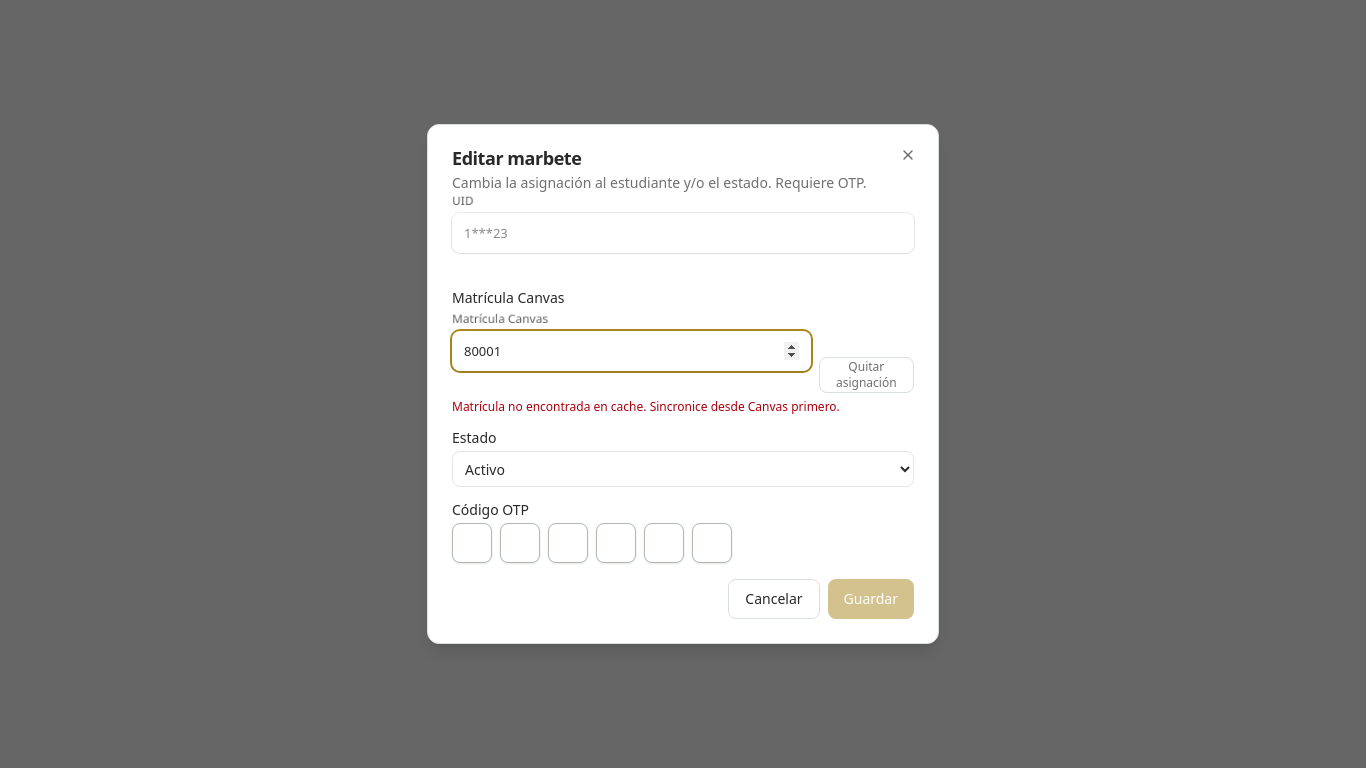
EditDialog › shows "no changes" error if status matches original and no canvasUserId change
In the field named "Digit": (472, 543) [452,523,492,563], type "1"
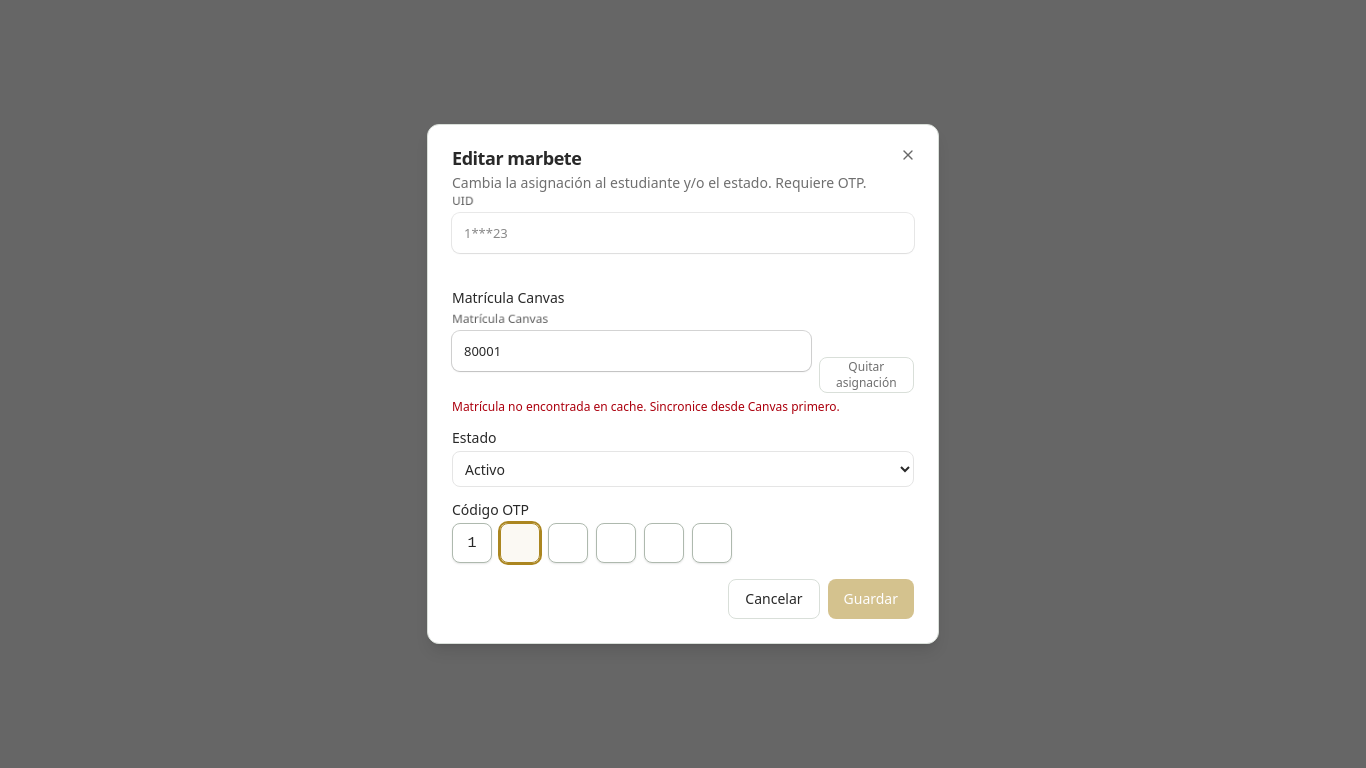
In the field named "Digit": (520, 543) [500,523,540,563], type "1"
In the field named "Digit": (568, 543) [548,523,588,563], type "1"
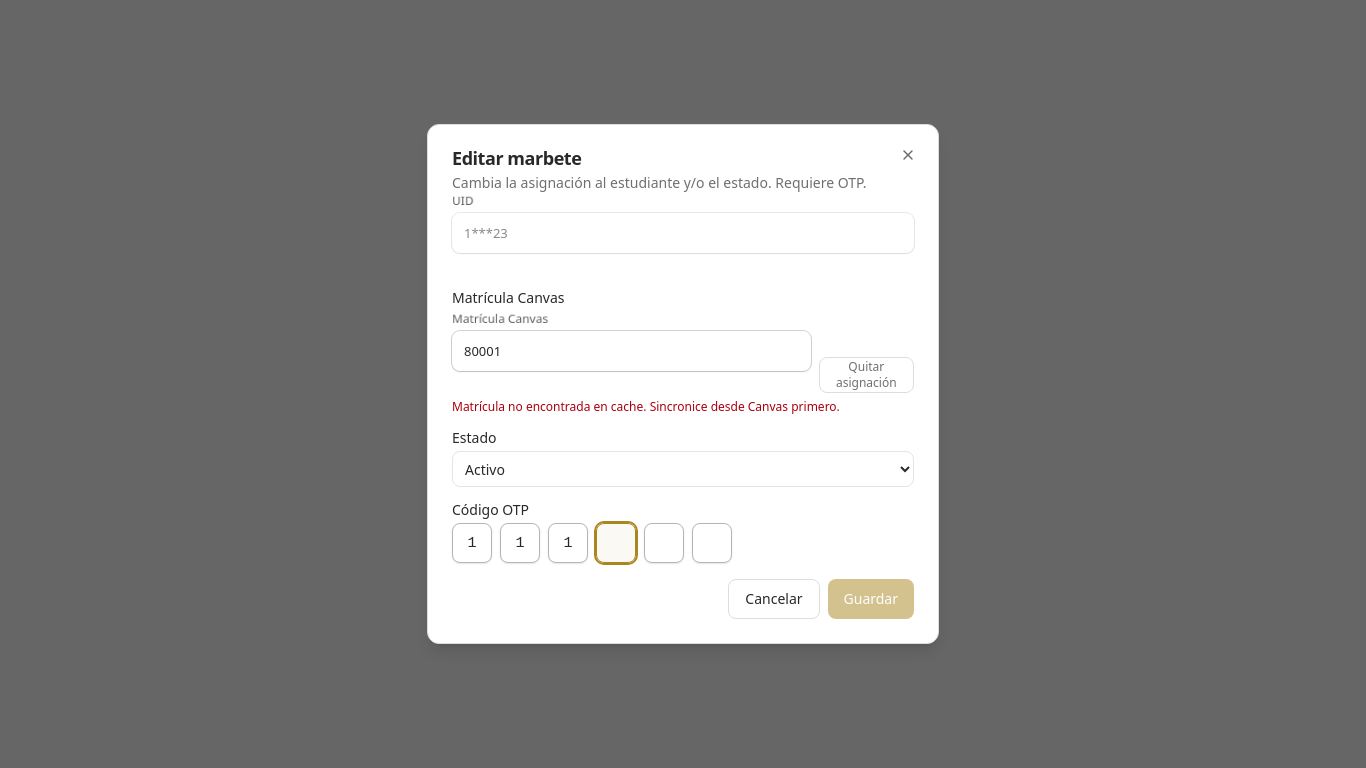
In the field named "Digit": (616, 543) [596,523,636,563], type "1"
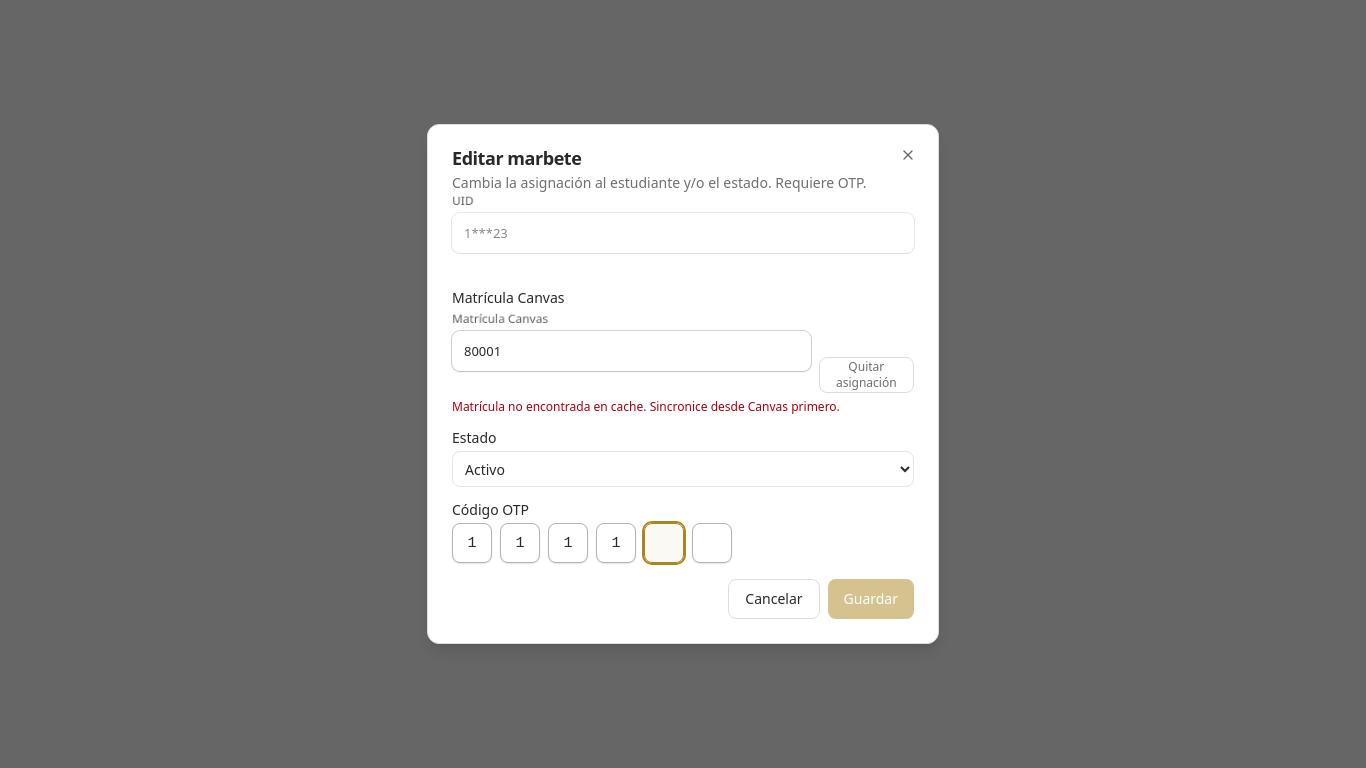
In the field named "Digit": (664, 543) [644,523,684,563], type "1"
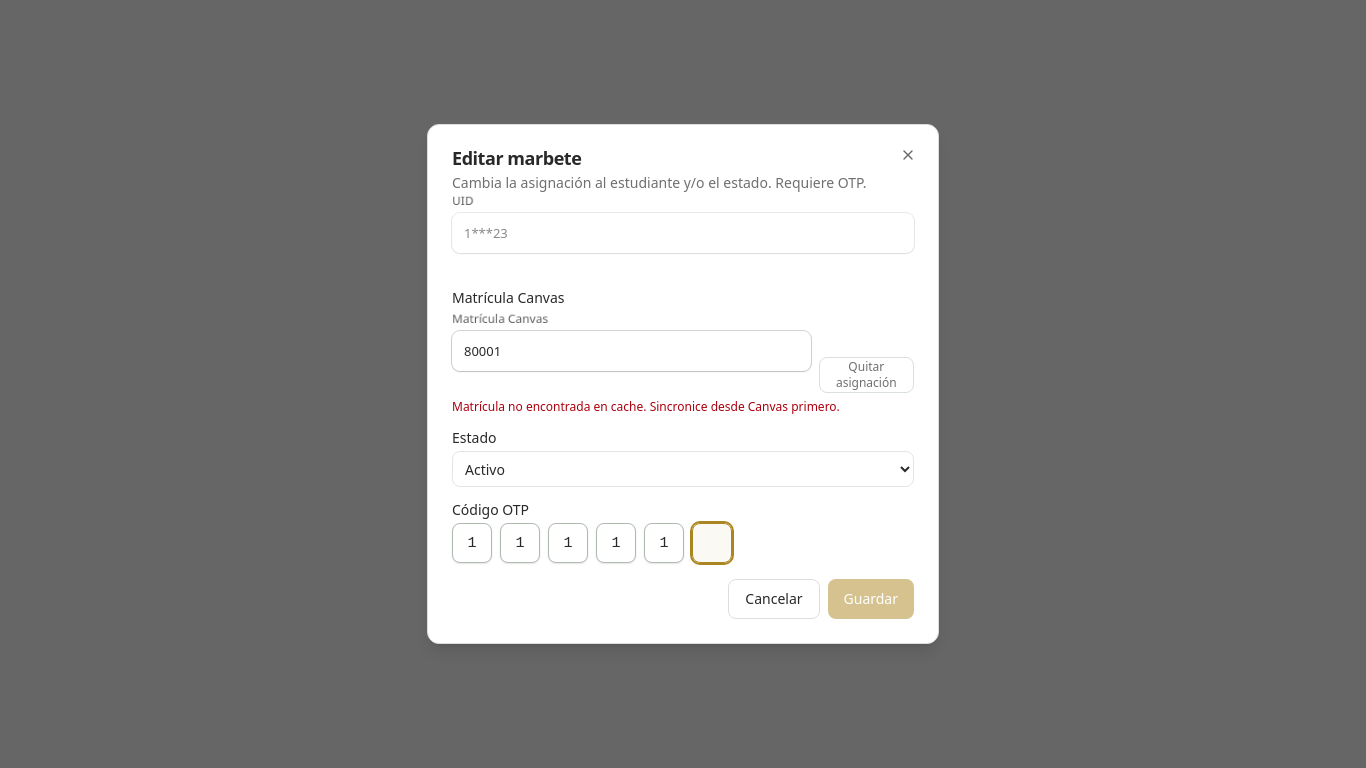
In the field named "Digit": (712, 543) [692,523,732,563], type "1"
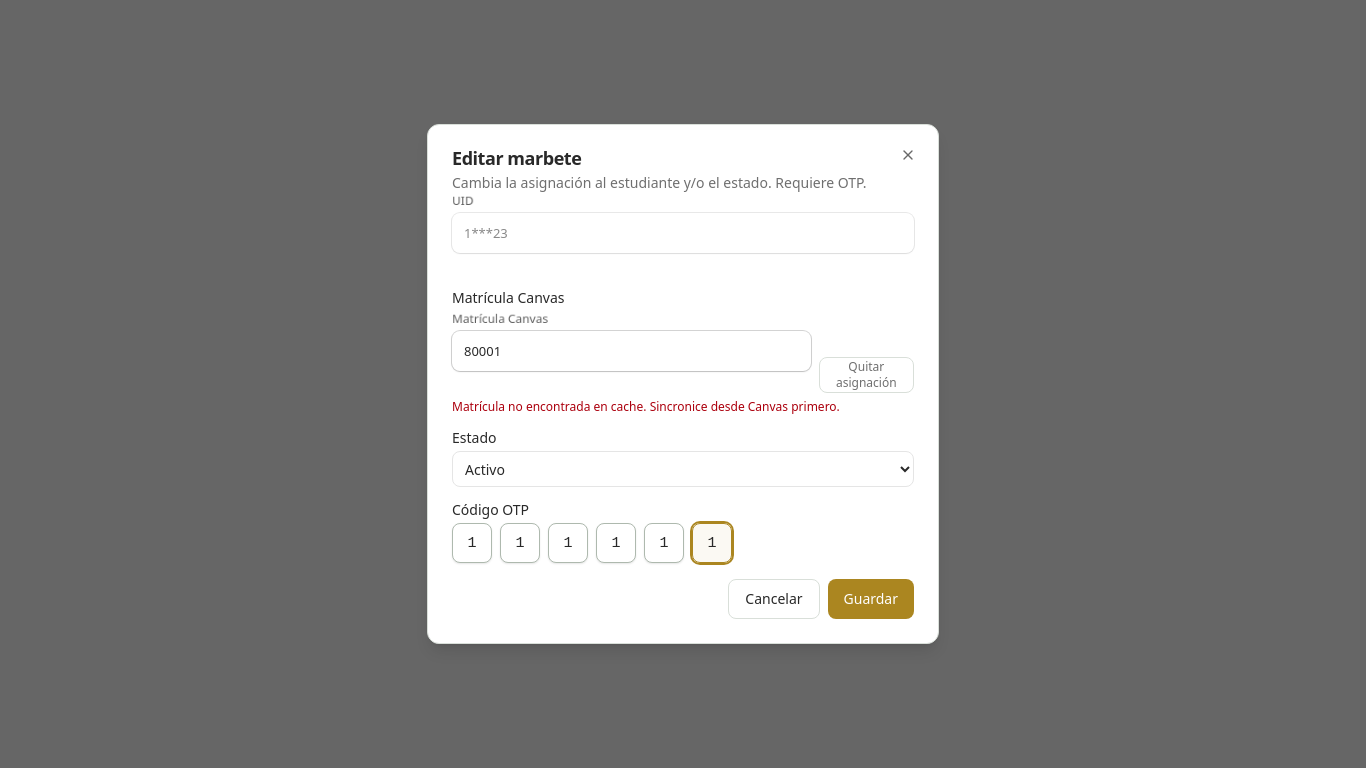
Click the button with test id "edit-submit": (871, 599) [828,579,914,619]
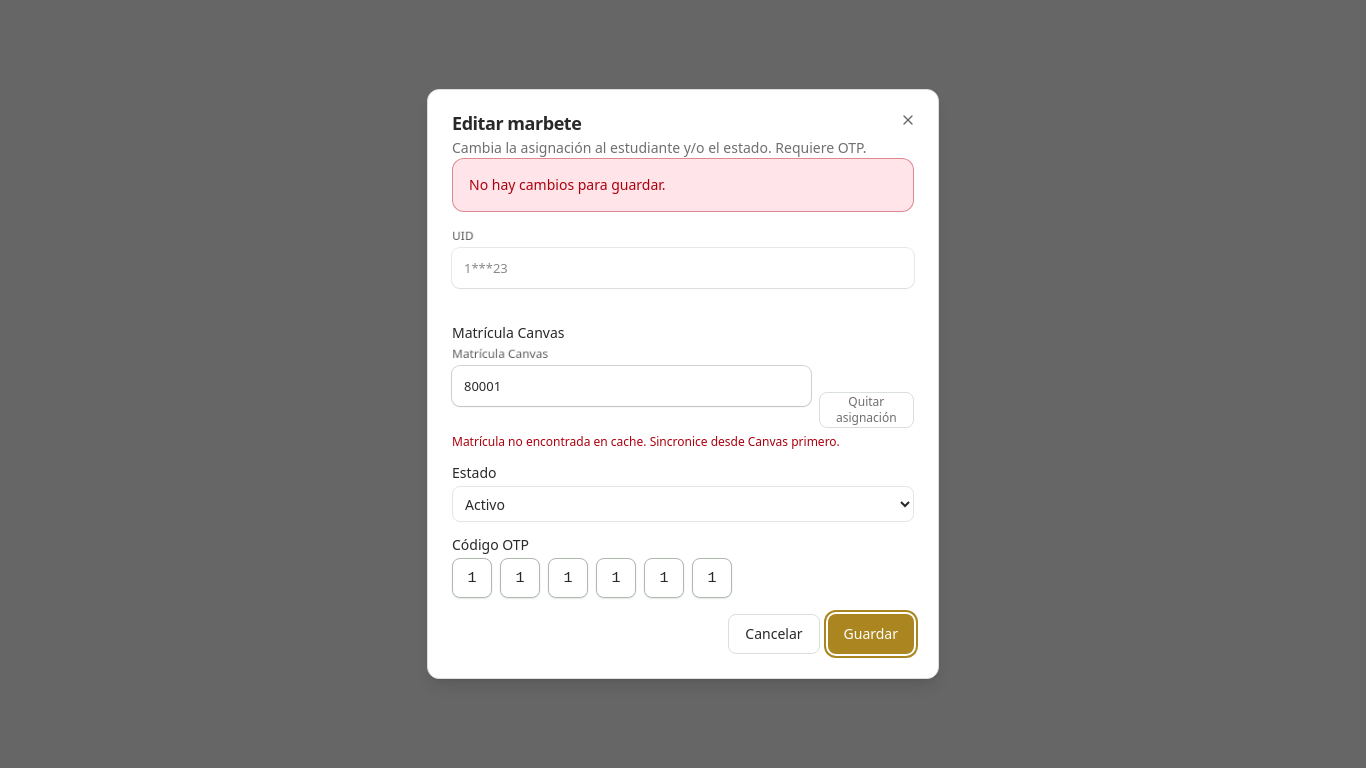
Expected: the message shows "No hay cambios", [469,175,666,194]
